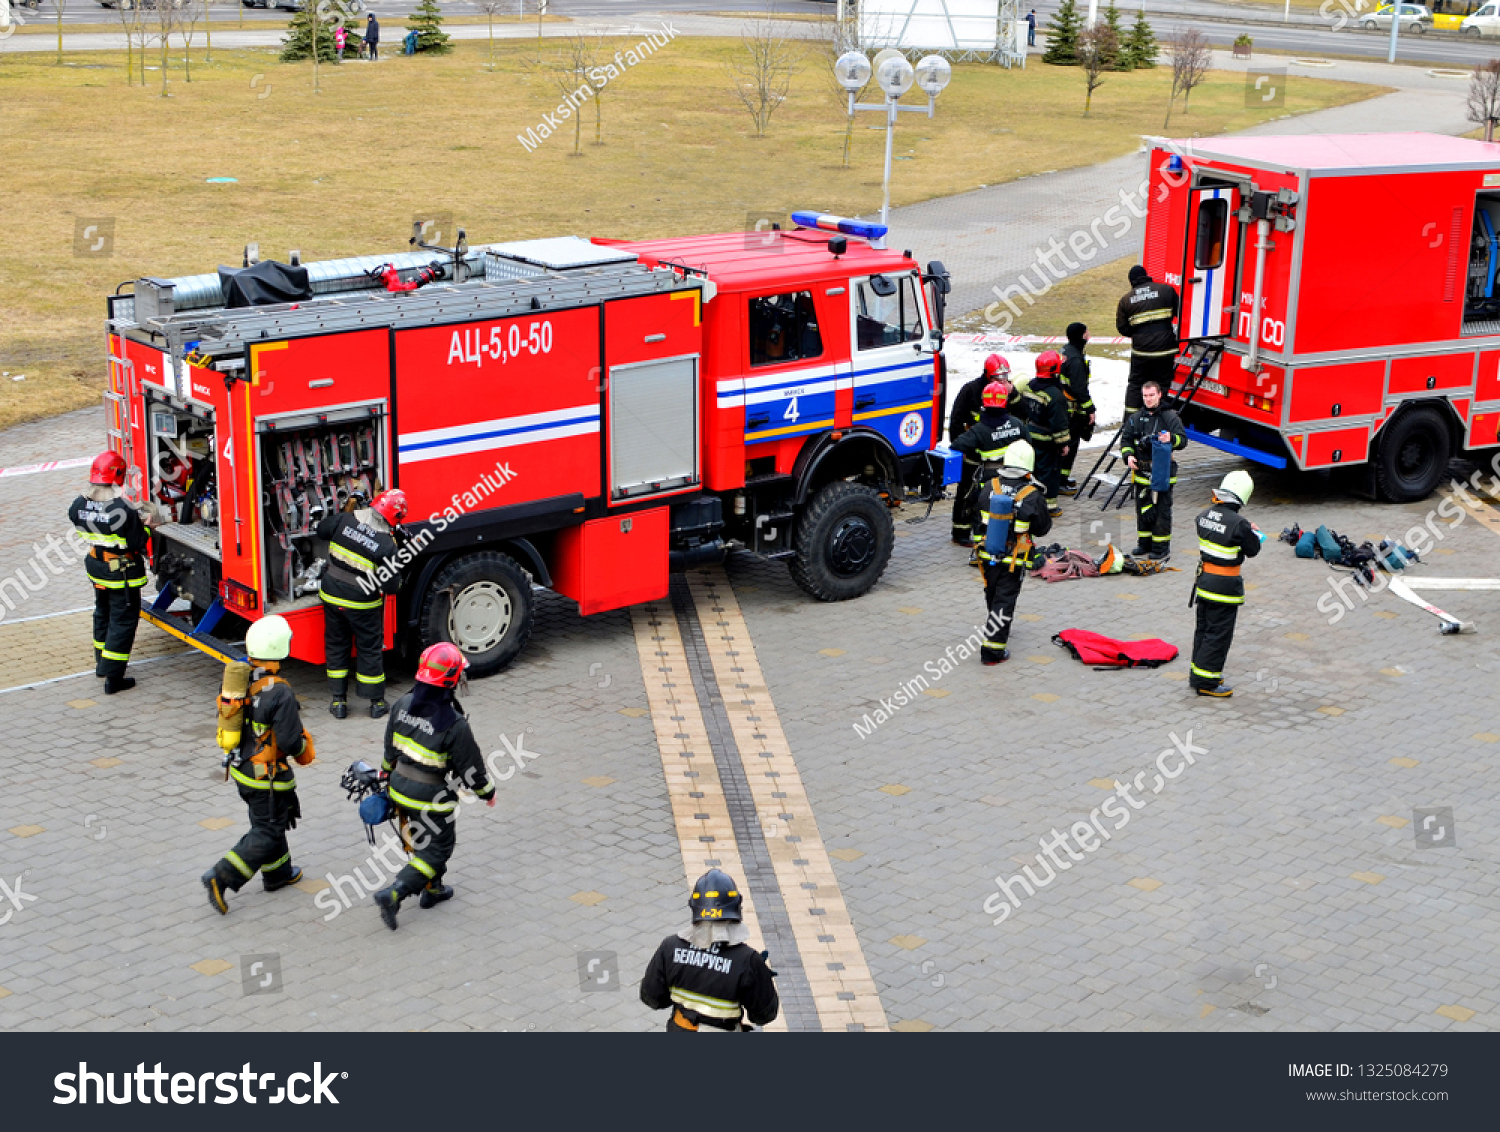special: (103, 210, 965, 683), (1149, 136, 1500, 492)
